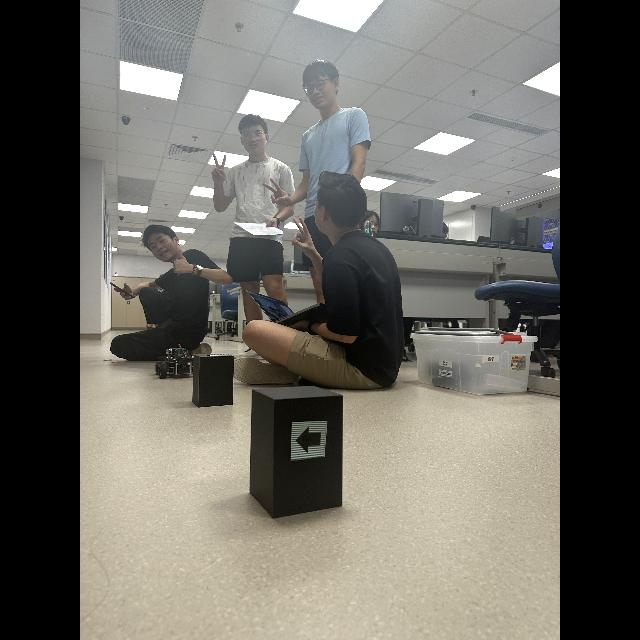LEFT: (295, 426, 320, 454)
